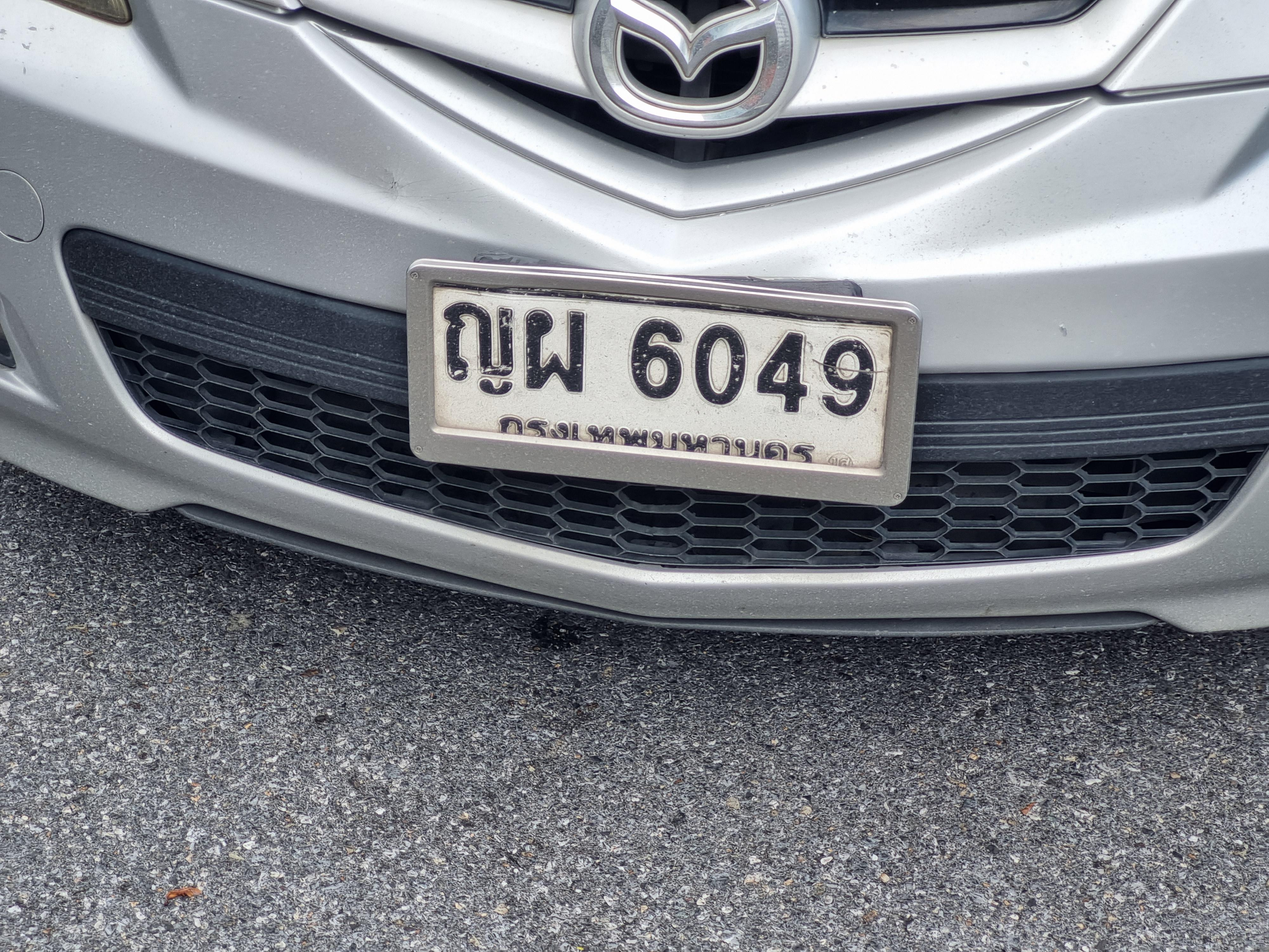license-plate: (397, 246, 922, 517)
